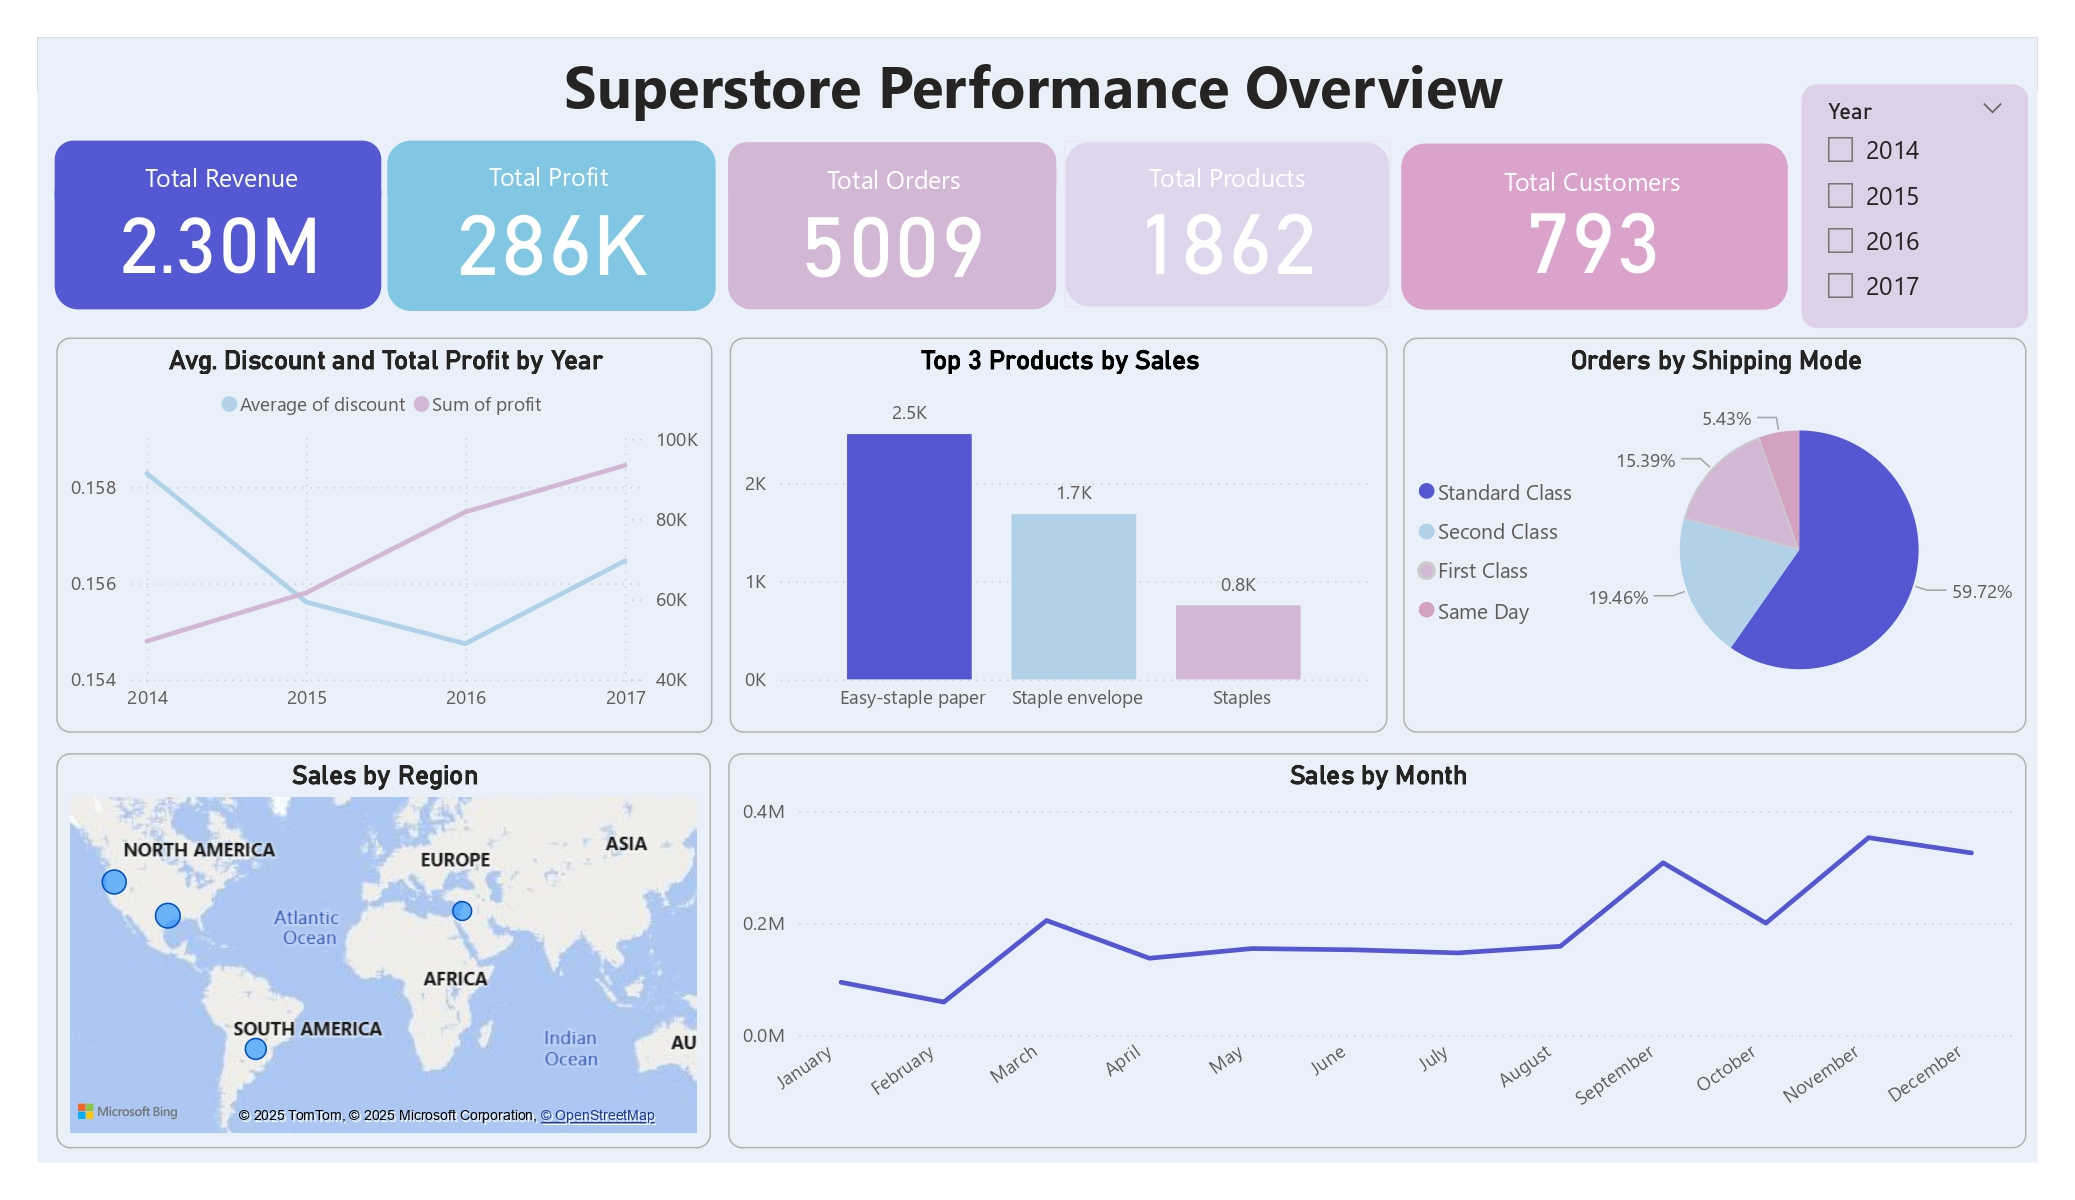

The dashboard page shown, as its layout file describes it:
{"tool":"powerbi","page":{"name":"Page 1","canvas":[1280,720],"ordinal":0},"visuals":[{"type":"slicer","fields":{"Values":["cleaned_super_store.year"]},"box":[1129.2,30.2,144.8,155.6],"z":0},{"type":"shape","box":[10.9,83.3,208.5,90.4],"z":4,"group":"g1"},{"type":"shape","box":[11.2,66.4,209.2,47.3],"z":5,"group":"g2"},{"type":"card","fields":{"Values":["Sum(cleaned_super_store.sales)"]},"box":[12.1,79.6,208.7,94.1],"z":504,"group":"g1"},{"type":"group","id":"g1","title":"Group 1","box":[10.9,79.6,209.9,94.1],"z":1000},{"type":"group","id":"g2","title":"Group 2","box":[11.2,66.4,212.3,61.5],"z":2000},{"type":"group","id":"g3","title":"Group 3","box":[224.2,66.4,209.9,108.6],"z":3000},{"type":"group","id":"g4","title":"Group 4","box":[223.5,68.1,207.5,43.4],"z":4000},{"type":"shape","box":[442.5,67.6,209.9,106.2],"z":4002,"group":"g5"},{"type":"card","fields":{"Values":["Count(cleaned_super_store.order_id)"]},"box":[442.5,91.7,208.7,71.2],"z":4502,"group":"g5"},{"type":"group","id":"g5","title":"Group 5","box":[442.5,67.6,209.9,106.2],"z":5000},{"type":"textbox","box":[13.6,74.8,209.9,53.1],"z":5000,"group":"g2"},{"type":"shape","box":[224.2,66.4,209.9,108.6],"z":5004,"group":"g3"},{"type":"shape","box":[224.3,68.1,201.5,43.4],"z":5006,"group":"g4"},{"type":"card","fields":{"Values":["Sum(cleaned_super_store.profit)"]},"box":[225.4,92.9,207.5,66.4],"z":5504,"group":"g3"},{"type":"textbox","box":[223.5,72.9,207.5,33.8],"z":5506,"group":"g4"},{"type":"shape","box":[441.9,67.2,209.9,41.2],"z":6000},{"type":"textbox","box":[443.2,75.5,209.9,31.6],"z":7000},{"type":"map","title":"Sales by Region","fields":{"Size":["Sum(cleaned_super_store.sales)"],"Category":["cleaned_super_store.region"]},"box":[12.3,458.3,418.5,252.5],"z":8000},{"type":"columnChart","title":"Top 3 Products by Sales","fields":{"Y":["Sum(cleaned_super_store.sales)"],"Category":["cleaned_super_store.product_name"]},"box":[443.2,192.1,421.3,252.5],"z":9000},{"type":"pieChart","title":"Orders by Shipping Mode","fields":{"Category":["cleaned_super_store.ship_mode"],"Y":["CountNonNull(cleaned_super_store.order_id)"]},"box":[874.1,192.1,399.3,252.5],"z":10000},{"type":"lineChart","title":"Sales by Month","fields":{"Category":["cleaned_super_store.order_date.Variation.Date Hierarchy.Month"],"Y":["Sum(cleaned_super_store.sales)"]},"box":[441.9,458.3,831.6,252.5],"z":11000},{"type":"lineChart","title":"Avg. Discount and Total Profit by Year","fields":{"Category":["cleaned_super_store.order_date.Variation.Date Hierarchy.Year","cleaned_super_store.order_date.Variation.Date Hierarchy.Month"],"Y":["Avg(cleaned_super_store.discount)"],"Y2":["Sum(cleaned_super_store.profit)"]},"box":[12.3,192.1,419.9,252.5],"z":12000},{"type":"textbox","box":[332.1,0,634,61.7],"z":13000},{"type":"group","id":"g6","title":"Group 6","box":[873.2,67.6,247.3,106.2],"z":14000},{"type":"group","id":"g7","title":"Group 8","box":[657.3,66.4,208.7,107.4],"z":15000},{"type":"shape","box":[873.2,67.6,247.3,106.2],"z":15000,"group":"g6"},{"type":"shape","box":[657.3,66.4,208.7,107.4],"z":15002,"group":"g7"},{"type":"card","fields":{"Values":["Count(cleaned_super_store.customer_id)"]},"box":[873.2,91.7,244.9,65.1],"z":15500,"group":"g6"},{"type":"card","fields":{"Values":["Count(cleaned_super_store.product_id)"]},"box":[659.7,86.9,203.9,77.2],"z":15502,"group":"g7"},{"type":"textbox","box":[874.7,76,240.1,39.8],"z":16000},{"type":"textbox","box":[660,74.1,203.1,32.9],"z":17000}]}

Visuals, with their boxes in screenshot pixels (x1, y1, x2, y2):
slicer - cleaned_super_store.year: [1779, 20, 2002, 259]
shape: [55, 101, 376, 241]
shape: [55, 75, 378, 148]
card - Sum(cleaned_super_store.sales): [56, 96, 378, 241]
"Group 1" group: [55, 96, 378, 241]
"Group 2" group: [55, 75, 382, 170]
"Group 3" group: [384, 75, 707, 243]
"Group 4" group: [382, 78, 702, 145]
shape: [720, 77, 1044, 241]
card - Count(cleaned_super_store.order_id): [720, 114, 1042, 224]
"Group 5" group: [720, 77, 1044, 241]
textbox: [59, 88, 382, 170]
shape: [384, 75, 707, 243]
shape: [384, 78, 694, 145]
card - Sum(cleaned_super_store.profit): [385, 116, 705, 219]
textbox: [382, 85, 702, 138]
shape: [719, 77, 1043, 140]
textbox: [721, 89, 1045, 138]
"Sales by Region" map: [57, 680, 702, 1069]
"Top 3 Products by Sales" columnChart: [721, 269, 1371, 659]
"Orders by Shipping Mode" pieChart: [1386, 269, 2001, 659]
"Sales by Month" lineChart: [719, 680, 2002, 1069]
"Avg. Discount and Total Profit by Year" lineChart: [57, 269, 704, 659]
textbox: [550, 0, 1528, 68]
"Group 6" group: [1384, 77, 1766, 241]
"Group 8" group: [1051, 75, 1373, 241]
shape: [1384, 77, 1766, 241]
shape: [1051, 75, 1373, 241]
card - Count(cleaned_super_store.customer_id): [1384, 114, 1762, 215]
card - Count(cleaned_super_store.product_id): [1055, 107, 1370, 226]
textbox: [1387, 90, 1757, 152]
textbox: [1056, 87, 1369, 138]
